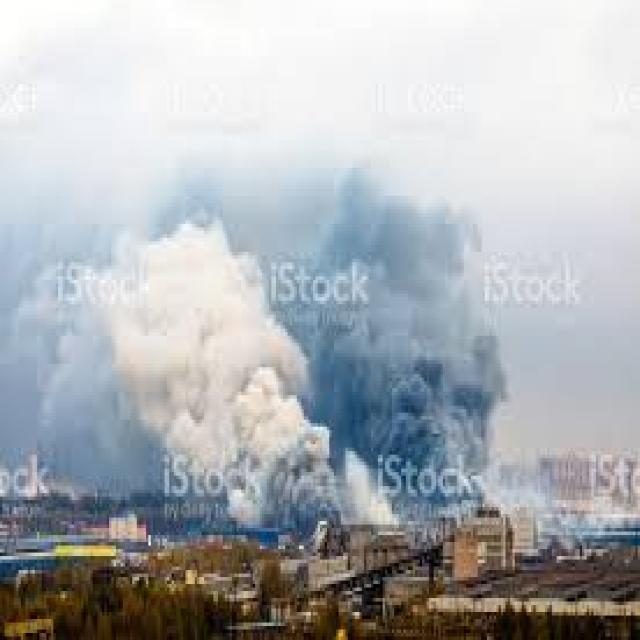Smoke: (0, 158, 508, 532)
